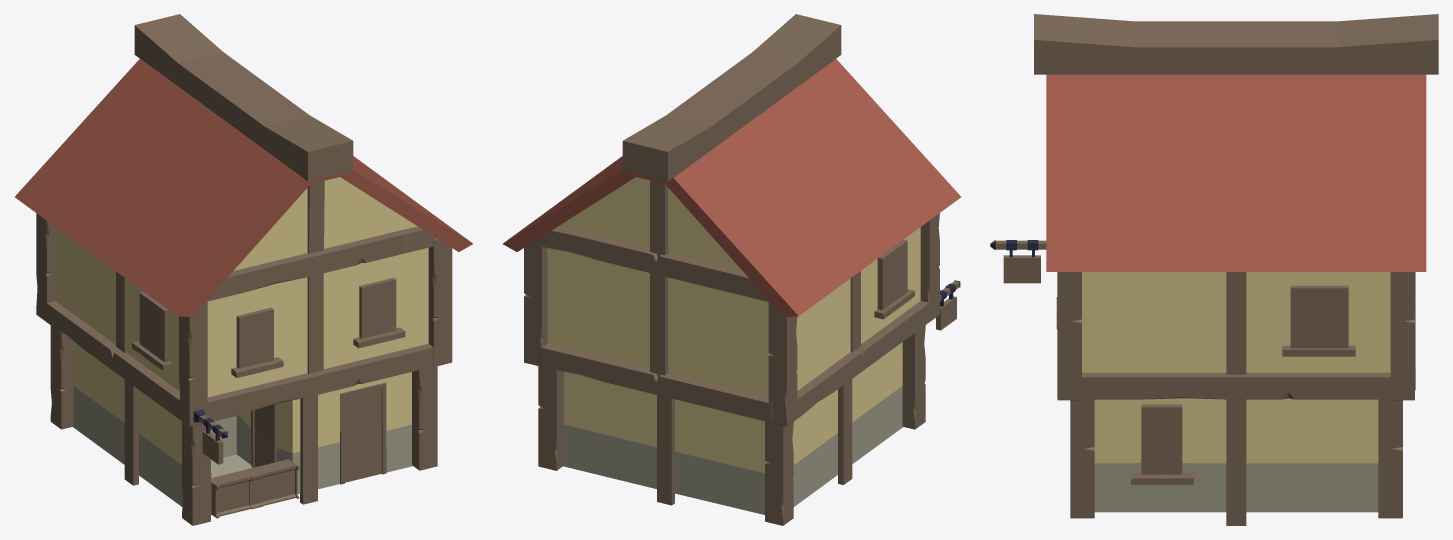
Rendered from NEW_merchant's shop.fbx.
3 renders of one model, left to right at view 1: azimuth 30°, elevation 25°; view 2: azimuth 150°, elevation 25°; view 3: azimuth 270°, elevation 25°, orthographic. The views are drawn at different scales.
Visible parts, largest first — view 1: Plane; view 2: Plane; view 3: Plane.
Boxes of the visible parts, x1=… form: Plane: x1=15, y1=14, x2=472, y2=525; Plane: x1=503, y1=14, x2=961, y2=525; Plane: x1=990, y1=14, x2=1438, y2=525.
Size of the model in its own units: 2266 by 2712 by 2545.
